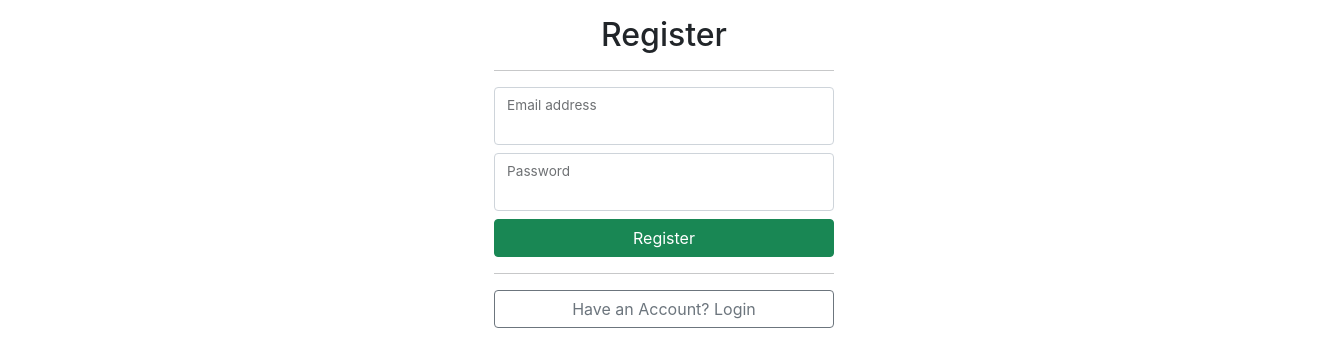
Test: users can register
In the field labelled "Email address": (664, 116) x1=494 y1=87 x2=834 y2=145, type "some@email.com"
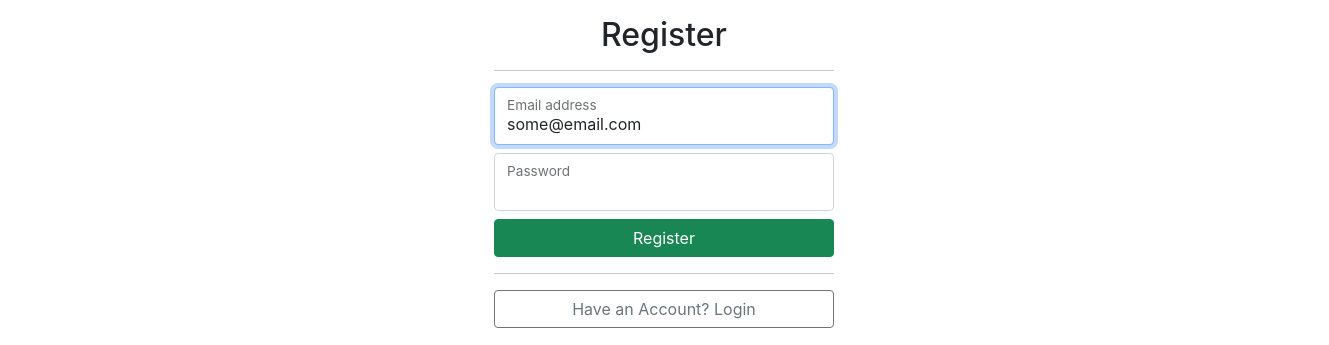
In the password field labelled "Password": (664, 182) x1=494 y1=153 x2=834 y2=211, type "some-password"
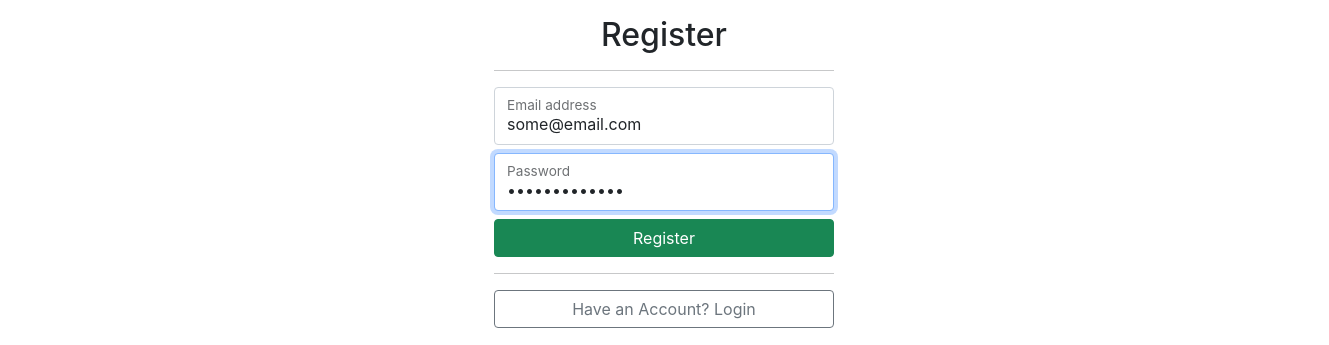
Click the submit button
Click the button "Register": (664, 238) x1=494 y1=219 x2=834 y2=257
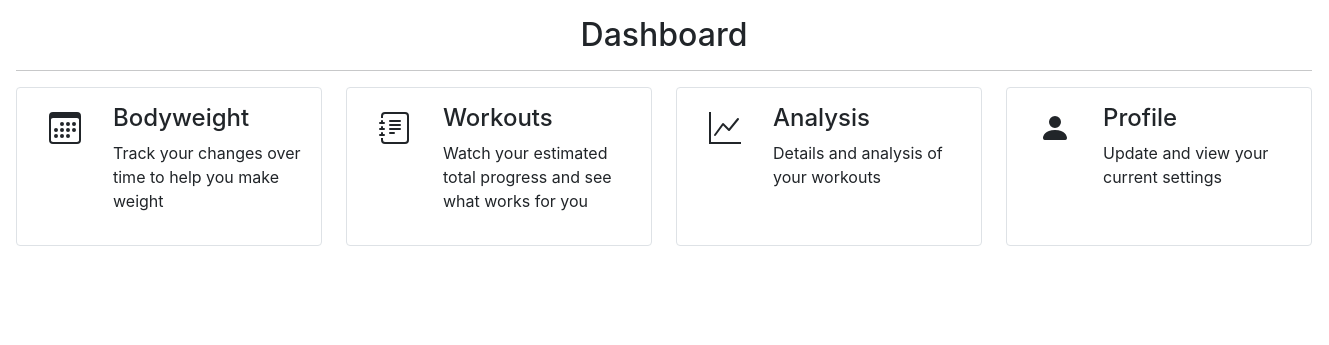
Now the heading "Dashboard" is shown, box x1=580 y1=15 x2=747 y2=54
